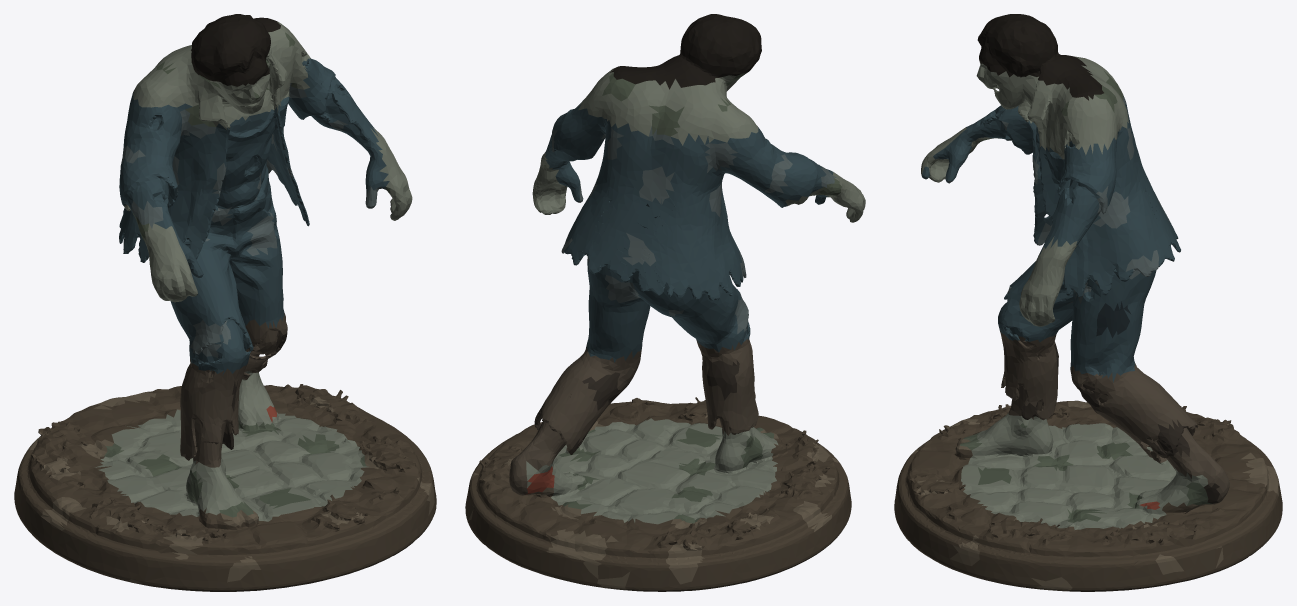
The model's file is zumbi.glb.
The picture shows the model from 3 angles, left to right: view 1: azimuth 30°, elevation 25°; view 2: azimuth 150°, elevation 25°; view 3: azimuth 270°, elevation 25°; orthographic projection. The views are drawn at different scales.
Visible parts, largest first — view 1: tmpqlz7f8nk.ply_bb875b, tmpqlz7f8nk.ply_b7004e, tmpqlz7f8nk.ply_fbea19, tmpqlz7f8nk.ply_e65381, tmpqlz7f8nk.ply_43d2e9; view 2: tmpqlz7f8nk.ply_b7004e, tmpqlz7f8nk.ply_bb875b, tmpqlz7f8nk.ply_fbea19, tmpqlz7f8nk.ply_e65381, tmpqlz7f8nk.ply_43d2e9; view 3: tmpqlz7f8nk.ply_bb875b, tmpqlz7f8nk.ply_fbea19, tmpqlz7f8nk.ply_b7004e, tmpqlz7f8nk.ply_e65381, tmpqlz7f8nk.ply_43d2e9.
Part boxes in pixels (bbox=[...]): tmpqlz7f8nk.ply_bb875b: bbox=[14, 384, 436, 591]; tmpqlz7f8nk.ply_b7004e: bbox=[119, 67, 390, 375]; tmpqlz7f8nk.ply_fbea19: bbox=[55, 313, 389, 535]; tmpqlz7f8nk.ply_e65381: bbox=[37, 21, 412, 516]; tmpqlz7f8nk.ply_43d2e9: bbox=[191, 14, 280, 86]; tmpqlz7f8nk.ply_b7004e: bbox=[541, 113, 849, 362]; tmpqlz7f8nk.ply_bb875b: bbox=[465, 397, 851, 591]; tmpqlz7f8nk.ply_fbea19: bbox=[501, 339, 806, 541]; tmpqlz7f8nk.ply_e65381: bbox=[489, 67, 865, 531]; tmpqlz7f8nk.ply_43d2e9: bbox=[610, 14, 761, 89]; tmpqlz7f8nk.ply_bb875b: bbox=[894, 400, 1282, 591]; tmpqlz7f8nk.ply_fbea19: bbox=[939, 331, 1229, 529]; tmpqlz7f8nk.ply_b7004e: bbox=[921, 105, 1180, 382]; tmpqlz7f8nk.ply_e65381: bbox=[921, 56, 1172, 532]; tmpqlz7f8nk.ply_43d2e9: bbox=[977, 14, 1103, 100].
Size of the model in its own units: 1.43 by 1.96 by 1.44.
